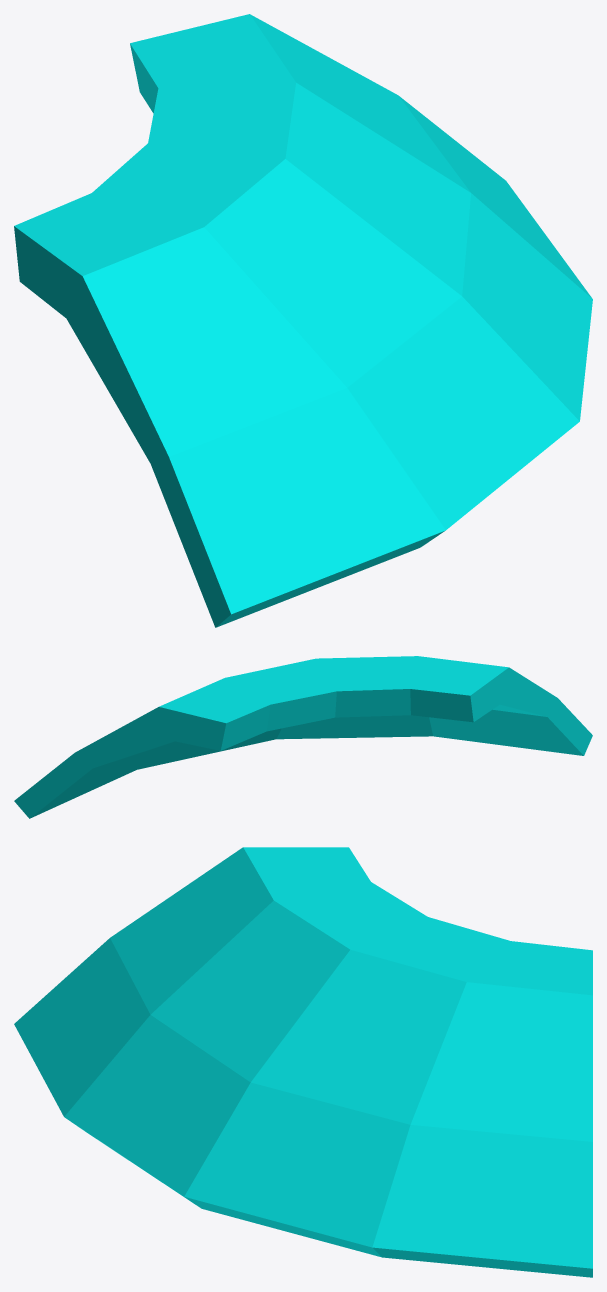
The model's file is SM_Bld_Roof_Thatch_Convex_Corner_02_Collision.fbx.
3 views of the same model, one above another, from view 1: azimuth 30°, elevation 25°; view 2: azimuth 150°, elevation 25°; view 3: azimuth 270°, elevation 25° (orthographic). The views are drawn at different scales.
Visible parts, largest first — view 1: SM_Bld_Roof_Thatch_Convex_Corner_02_Collision; view 2: SM_Bld_Roof_Thatch_Convex_Corner_02_Collision; view 3: SM_Bld_Roof_Thatch_Convex_Corner_02_Collision.
Boxes of the visible parts, bbox=[...] form: SM_Bld_Roof_Thatch_Convex_Corner_02_Collision: bbox=[14, 14, 592, 627]; SM_Bld_Roof_Thatch_Convex_Corner_02_Collision: bbox=[14, 656, 592, 818]; SM_Bld_Roof_Thatch_Convex_Corner_02_Collision: bbox=[14, 847, 592, 1277].
Size of the model in its own units: 593 by 222 by 593.
